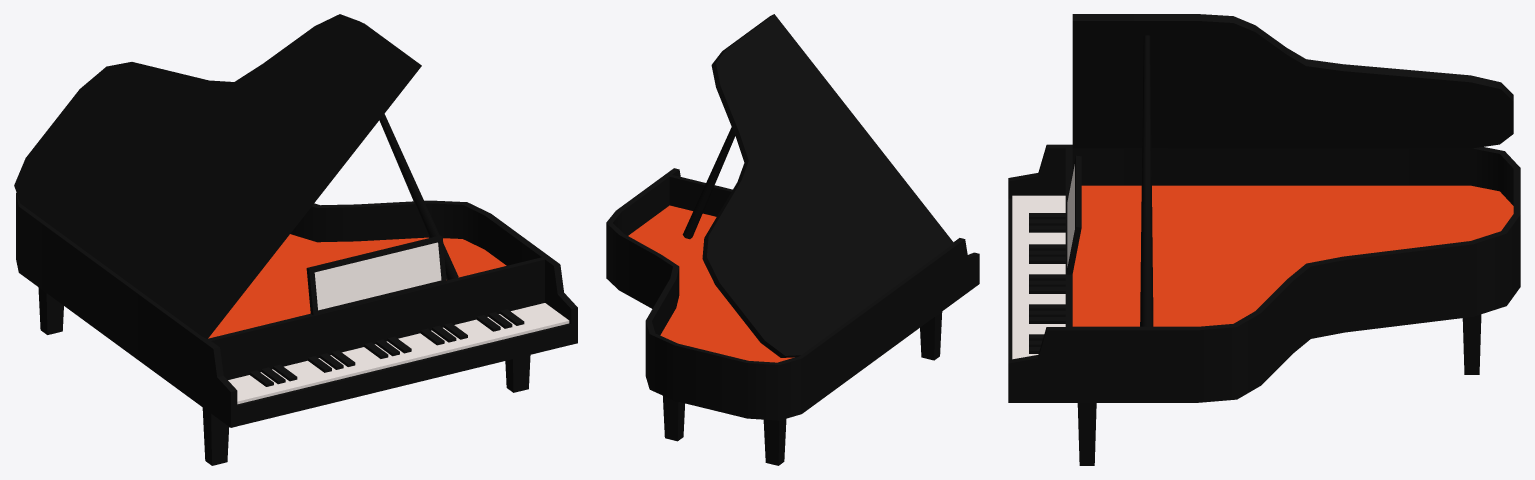
The model's file is piano.FBX.
3 views of the same model, side by side, from view 1: azimuth 30°, elevation 25°; view 2: azimuth 150°, elevation 25°; view 3: azimuth 270°, elevation 25° (orthographic). The views are drawn at different scales.
Visible parts, largest first — view 1: Box1913; view 2: Box1913; view 3: Box1913.
Boxes of the visible parts, left/top/right/bottom form: Box1913: left=14, top=14, right=577, bottom=465; Box1913: left=606, top=14, right=979, bottom=465; Box1913: left=1008, top=14, right=1520, bottom=465.
Bounding box in the file's own units: 8.02 × 7.87 × 9.36.
